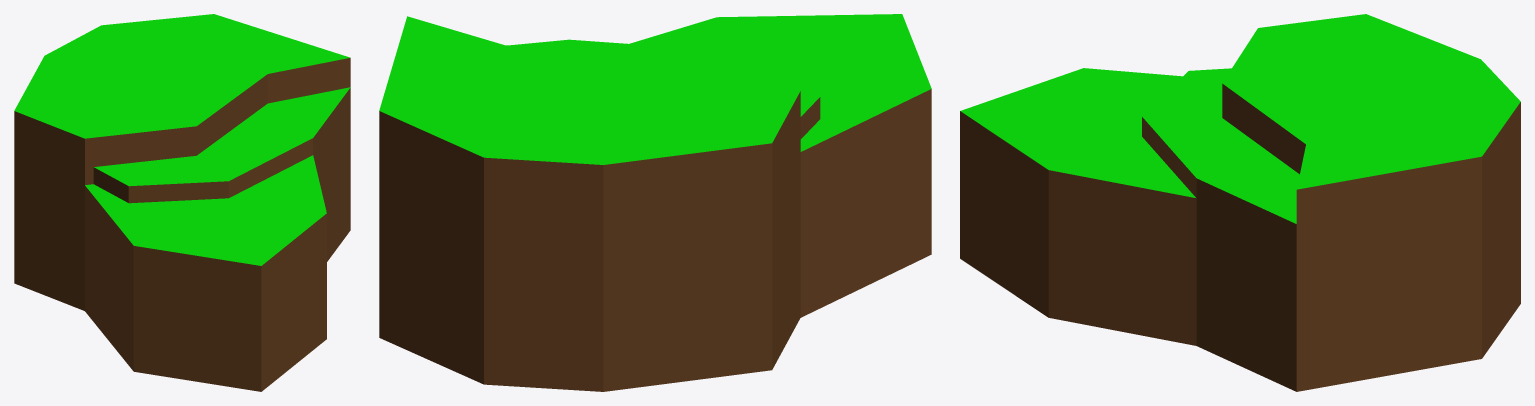
The model's file is Island05.fbx.
The picture shows the model from 3 angles, left to right: view 1: azimuth 30°, elevation 25°; view 2: azimuth 150°, elevation 25°; view 3: azimuth 270°, elevation 25°; orthographic projection. The views are drawn at different scales.
Parts seen in each view (by area): view 1: New_Game_Object; view 2: New_Game_Object; view 3: New_Game_Object.
Part boxes in pixels (x1,y1,x2,y2): New_Game_Object: (14, 14, 350, 391); New_Game_Object: (379, 14, 931, 391); New_Game_Object: (960, 14, 1520, 391).
Size of the model in its own units: 2878 by 3870 by 1859.
